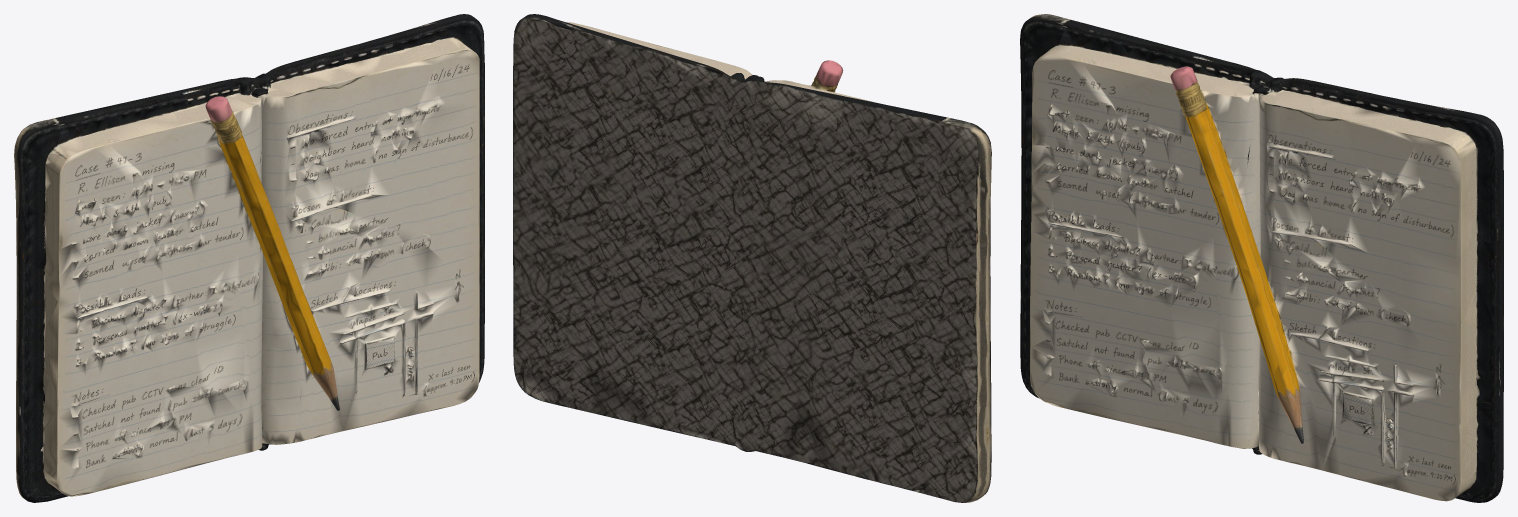
Rendered from notebook.glb.
3 renders of one model, left to right at view 1: azimuth 30°, elevation 25°; view 2: azimuth 150°, elevation 25°; view 3: azimuth 330°, elevation 25°, orthographic.
Bounding box in the file's own units: 1.9 × 1.48 × 0.2319.
1 material, 1 textured.
